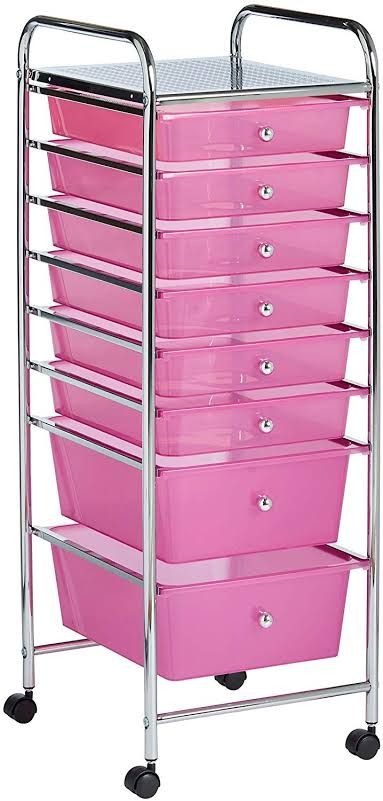Carts: (3, 6, 383, 798)
